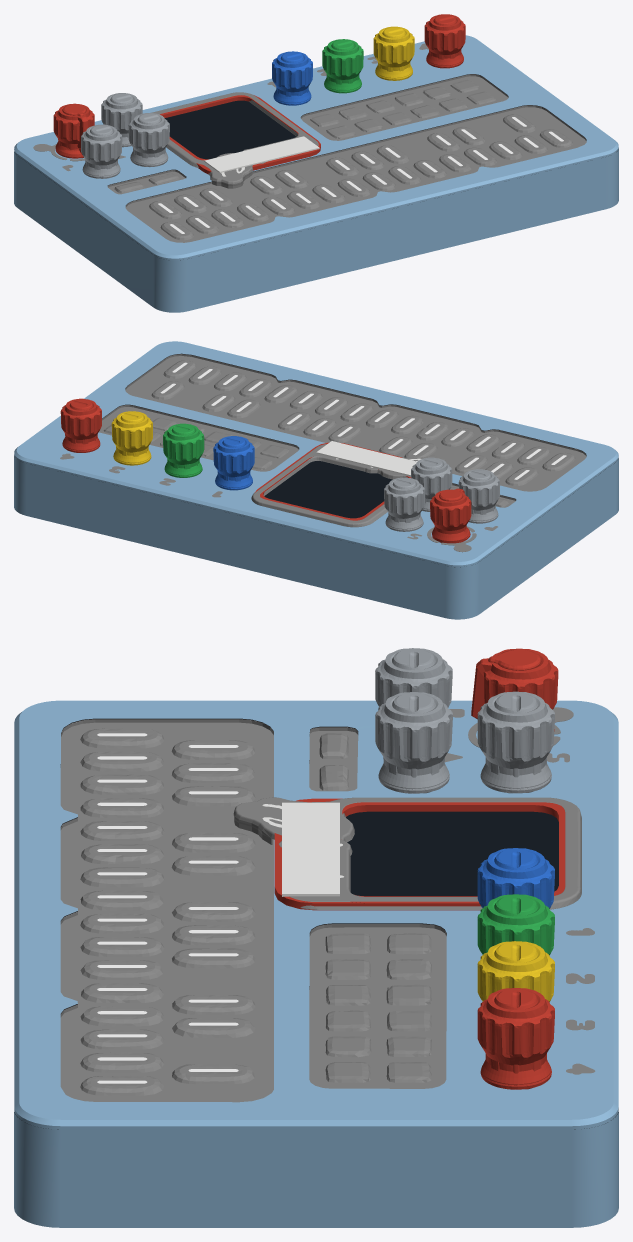
The model's file is FM1_Kz_site_v0.87.glb.
3 views of the same model, one above another, from view 1: azimuth 30°, elevation 25°; view 2: azimuth 150°, elevation 25°; view 3: azimuth 270°, elevation 25° (orthographic). The views are drawn at different scales.
Visible parts, largest first — view 1: faceplate_side, faceplate_body, keys_base, keys_buttons, fm1_screen, bezel_jiant, bezel_logo_sloop, knob_p2_classic_long_body, knob_p4_classic_long_body, knob_nav3_classic_long_body, knob_p3_classic_long_body, knob_nav2_classic_long_body (+8 smaller); view 2: faceplate_side, faceplate_body, keys_base, keys_buttons, fm1_screen, bezel_jiant, knob_vol_classic_long_body, knob_p2_classic_long_body, knob_p1_classic_long_body, knob_nav1_classic_long_body, knob_p4_classic_long_body, knob_p3_classic_long_body (+7 smaller); view 3: faceplate_body, faceplate_side, keys_base, keys_buttons, fm1_screen, bezel_jiant, knob_nav1_classic_long_body, knob_p4_classic_long_body, knob_nav3_classic_long_body, bezel_logo_sloop, keyboard_lights, bezel_simple (+9 smaller).
Part boxes in pixels (box(x1,y1,x2,y2)): faceplate_side: box(14, 149, 618, 312); faceplate_body: box(14, 35, 618, 260); keys_base: box(107, 74, 586, 242); keys_buttons: box(114, 79, 572, 240); fm1_screen: box(164, 100, 295, 159); bezel_jiant: box(151, 92, 318, 188); bezel_logo_sloop: box(204, 136, 319, 172); knob_p2_classic_long_body: box(322, 39, 363, 93); knob_p4_classic_long_body: box(424, 14, 465, 68); knob_nav3_classic_long_body: box(128, 113, 169, 166); knob_p3_classic_long_body: box(373, 26, 414, 80); knob_nav2_classic_long_body: box(81, 124, 122, 178); faceplate_side: box(14, 456, 618, 619); faceplate_body: box(14, 341, 618, 567); keys_base: box(99, 354, 586, 507); keys_buttons: box(103, 360, 575, 507); fm1_screen: box(264, 461, 392, 518); bezel_jiant: box(251, 444, 445, 527); knob_vol_classic_long_body: box(430, 488, 471, 543); knob_p2_classic_long_body: box(163, 423, 204, 477); knob_p1_classic_long_body: box(213, 436, 254, 490); knob_nav1_classic_long_body: box(384, 477, 425, 531); knob_p4_classic_long_body: box(60, 398, 101, 452); knob_p3_classic_long_body: box(111, 411, 152, 465); faceplate_body: box(14, 700, 618, 1129); faceplate_side: box(14, 1111, 618, 1227); keys_base: box(60, 719, 446, 1102); keys_buttons: box(80, 728, 431, 1095); fm1_screen: box(346, 811, 558, 896); bezel_jiant: box(233, 797, 581, 909); knob_nav1_classic_long_body: box(477, 691, 554, 793); knob_p4_classic_long_body: box(477, 988, 554, 1089); knob_nav3_classic_long_body: box(375, 692, 452, 793); bezel_logo_sloop: box(282, 802, 339, 896); keyboard_lights: box(97, 733, 238, 1083); bezel_simple: box(342, 802, 565, 910).
Size of the model in its own units: 0.1639 by 0.0336 by 0.0989.
